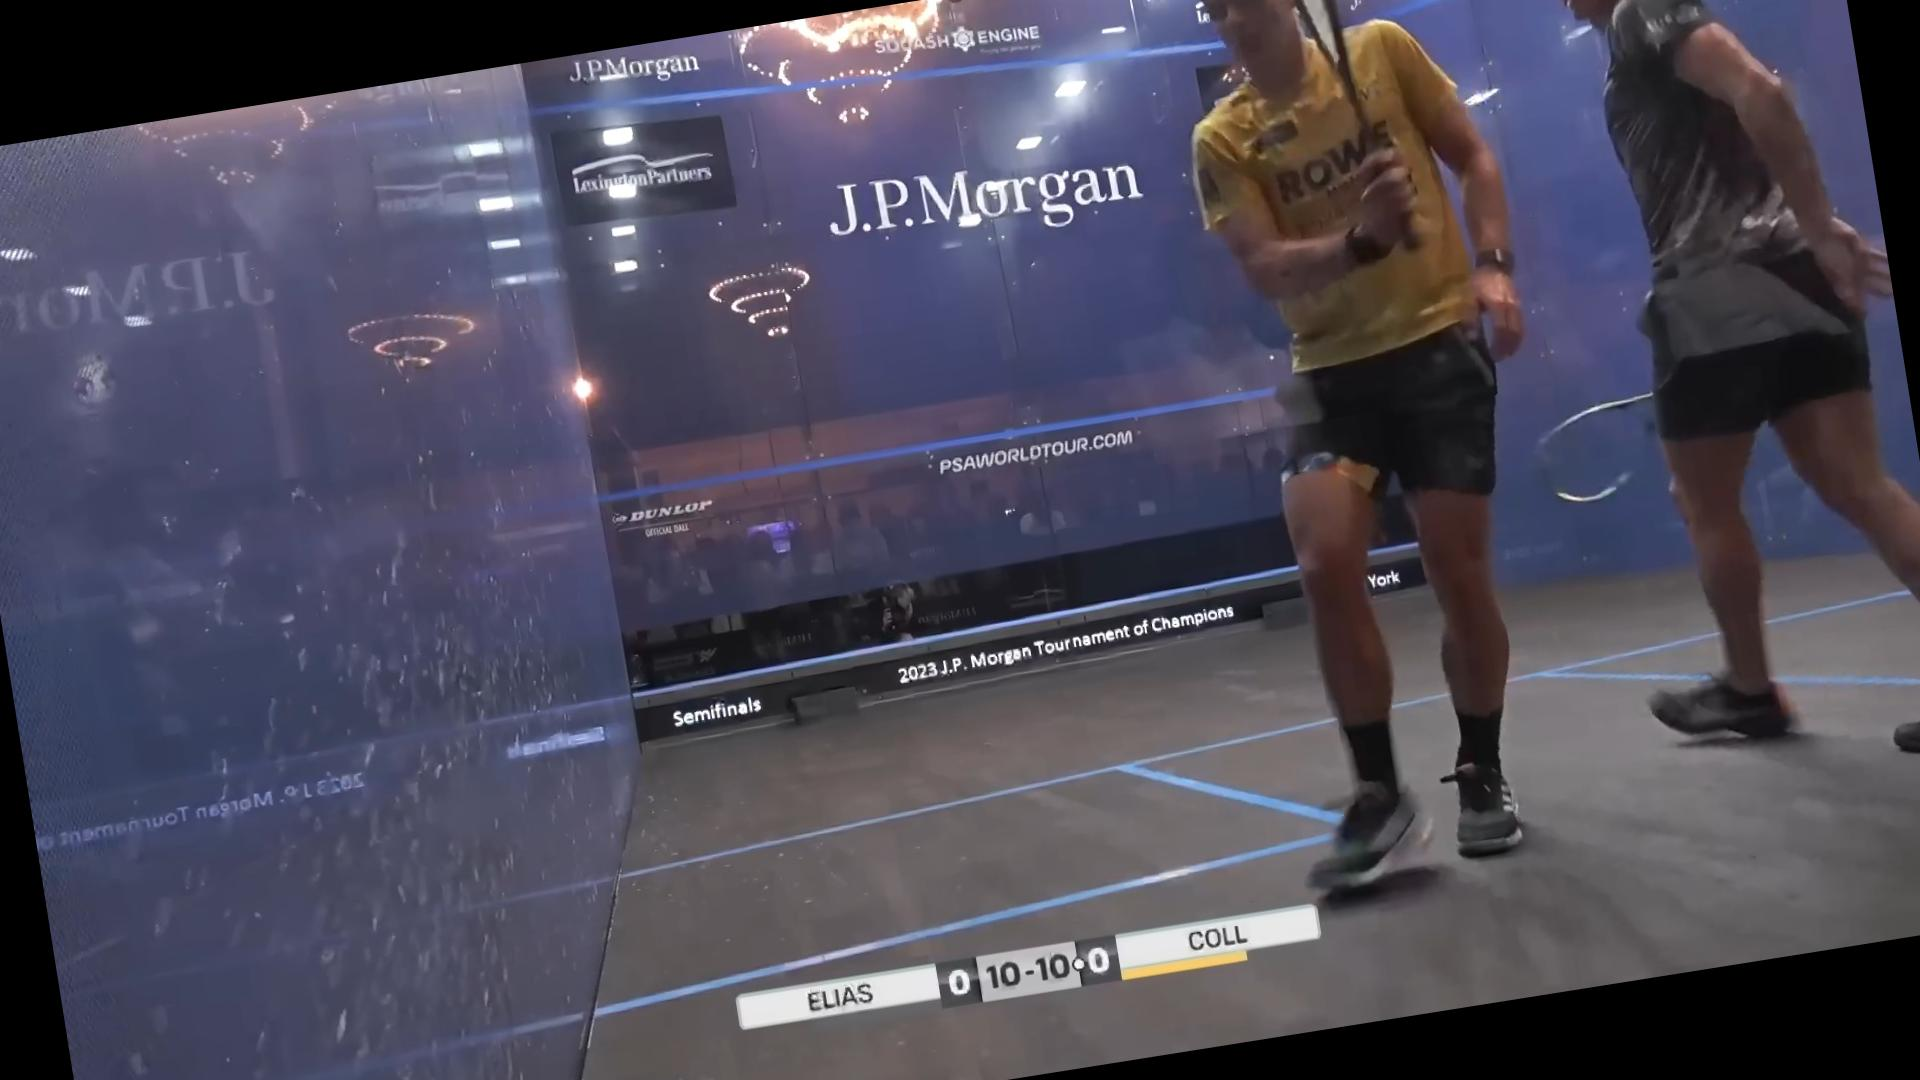Racket: (1265, 0, 1428, 272), (1516, 385, 1668, 516)
